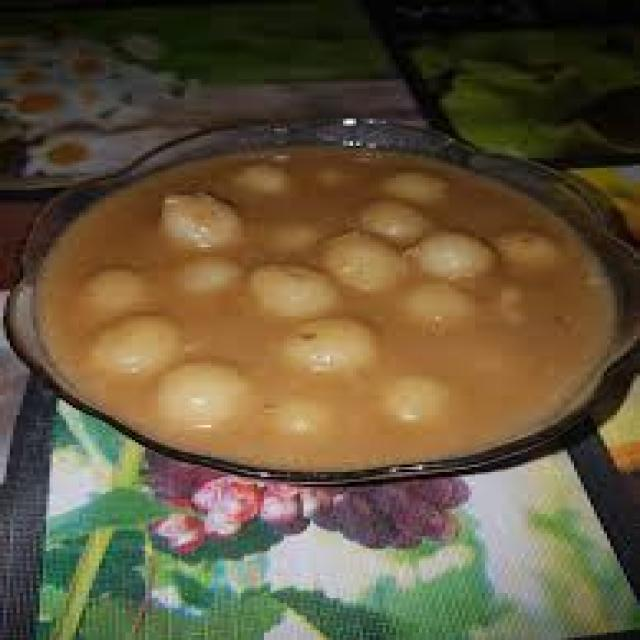paal kolukattai: (42, 114, 630, 480)
